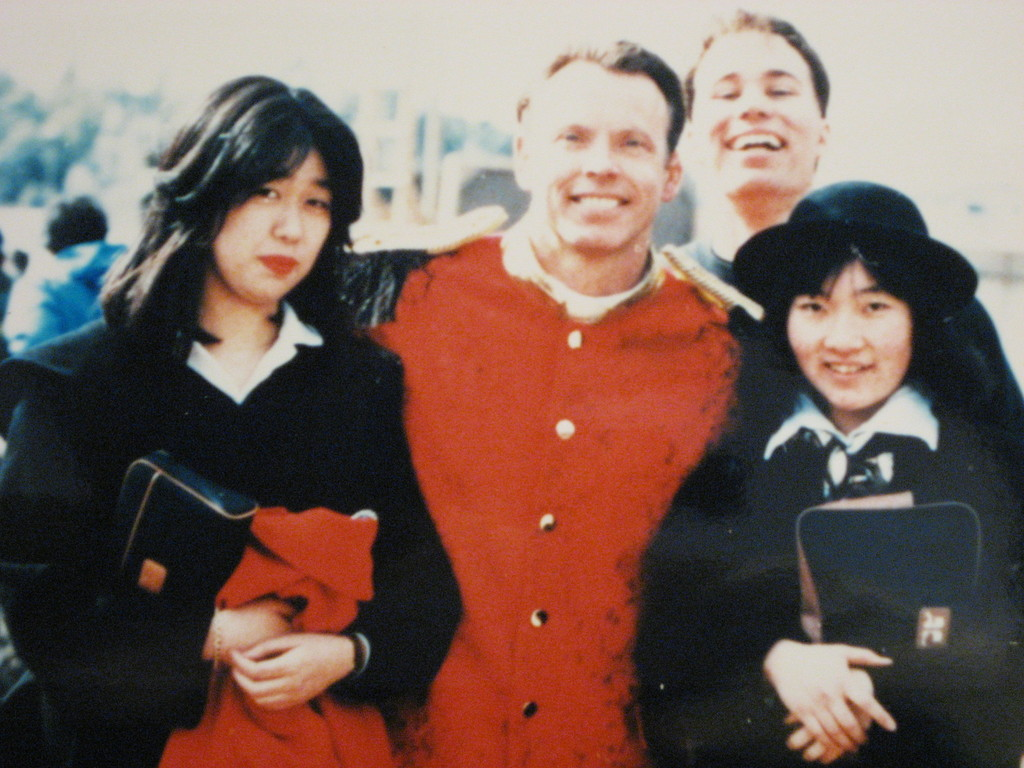Human-face: (530, 61, 670, 257), (694, 32, 822, 192), (212, 145, 332, 307), (787, 259, 908, 414)
